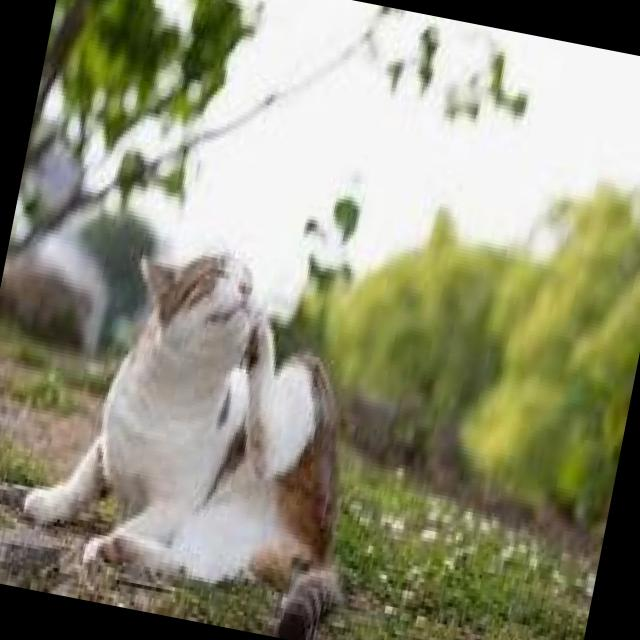Gato: (7, 208, 405, 640)
